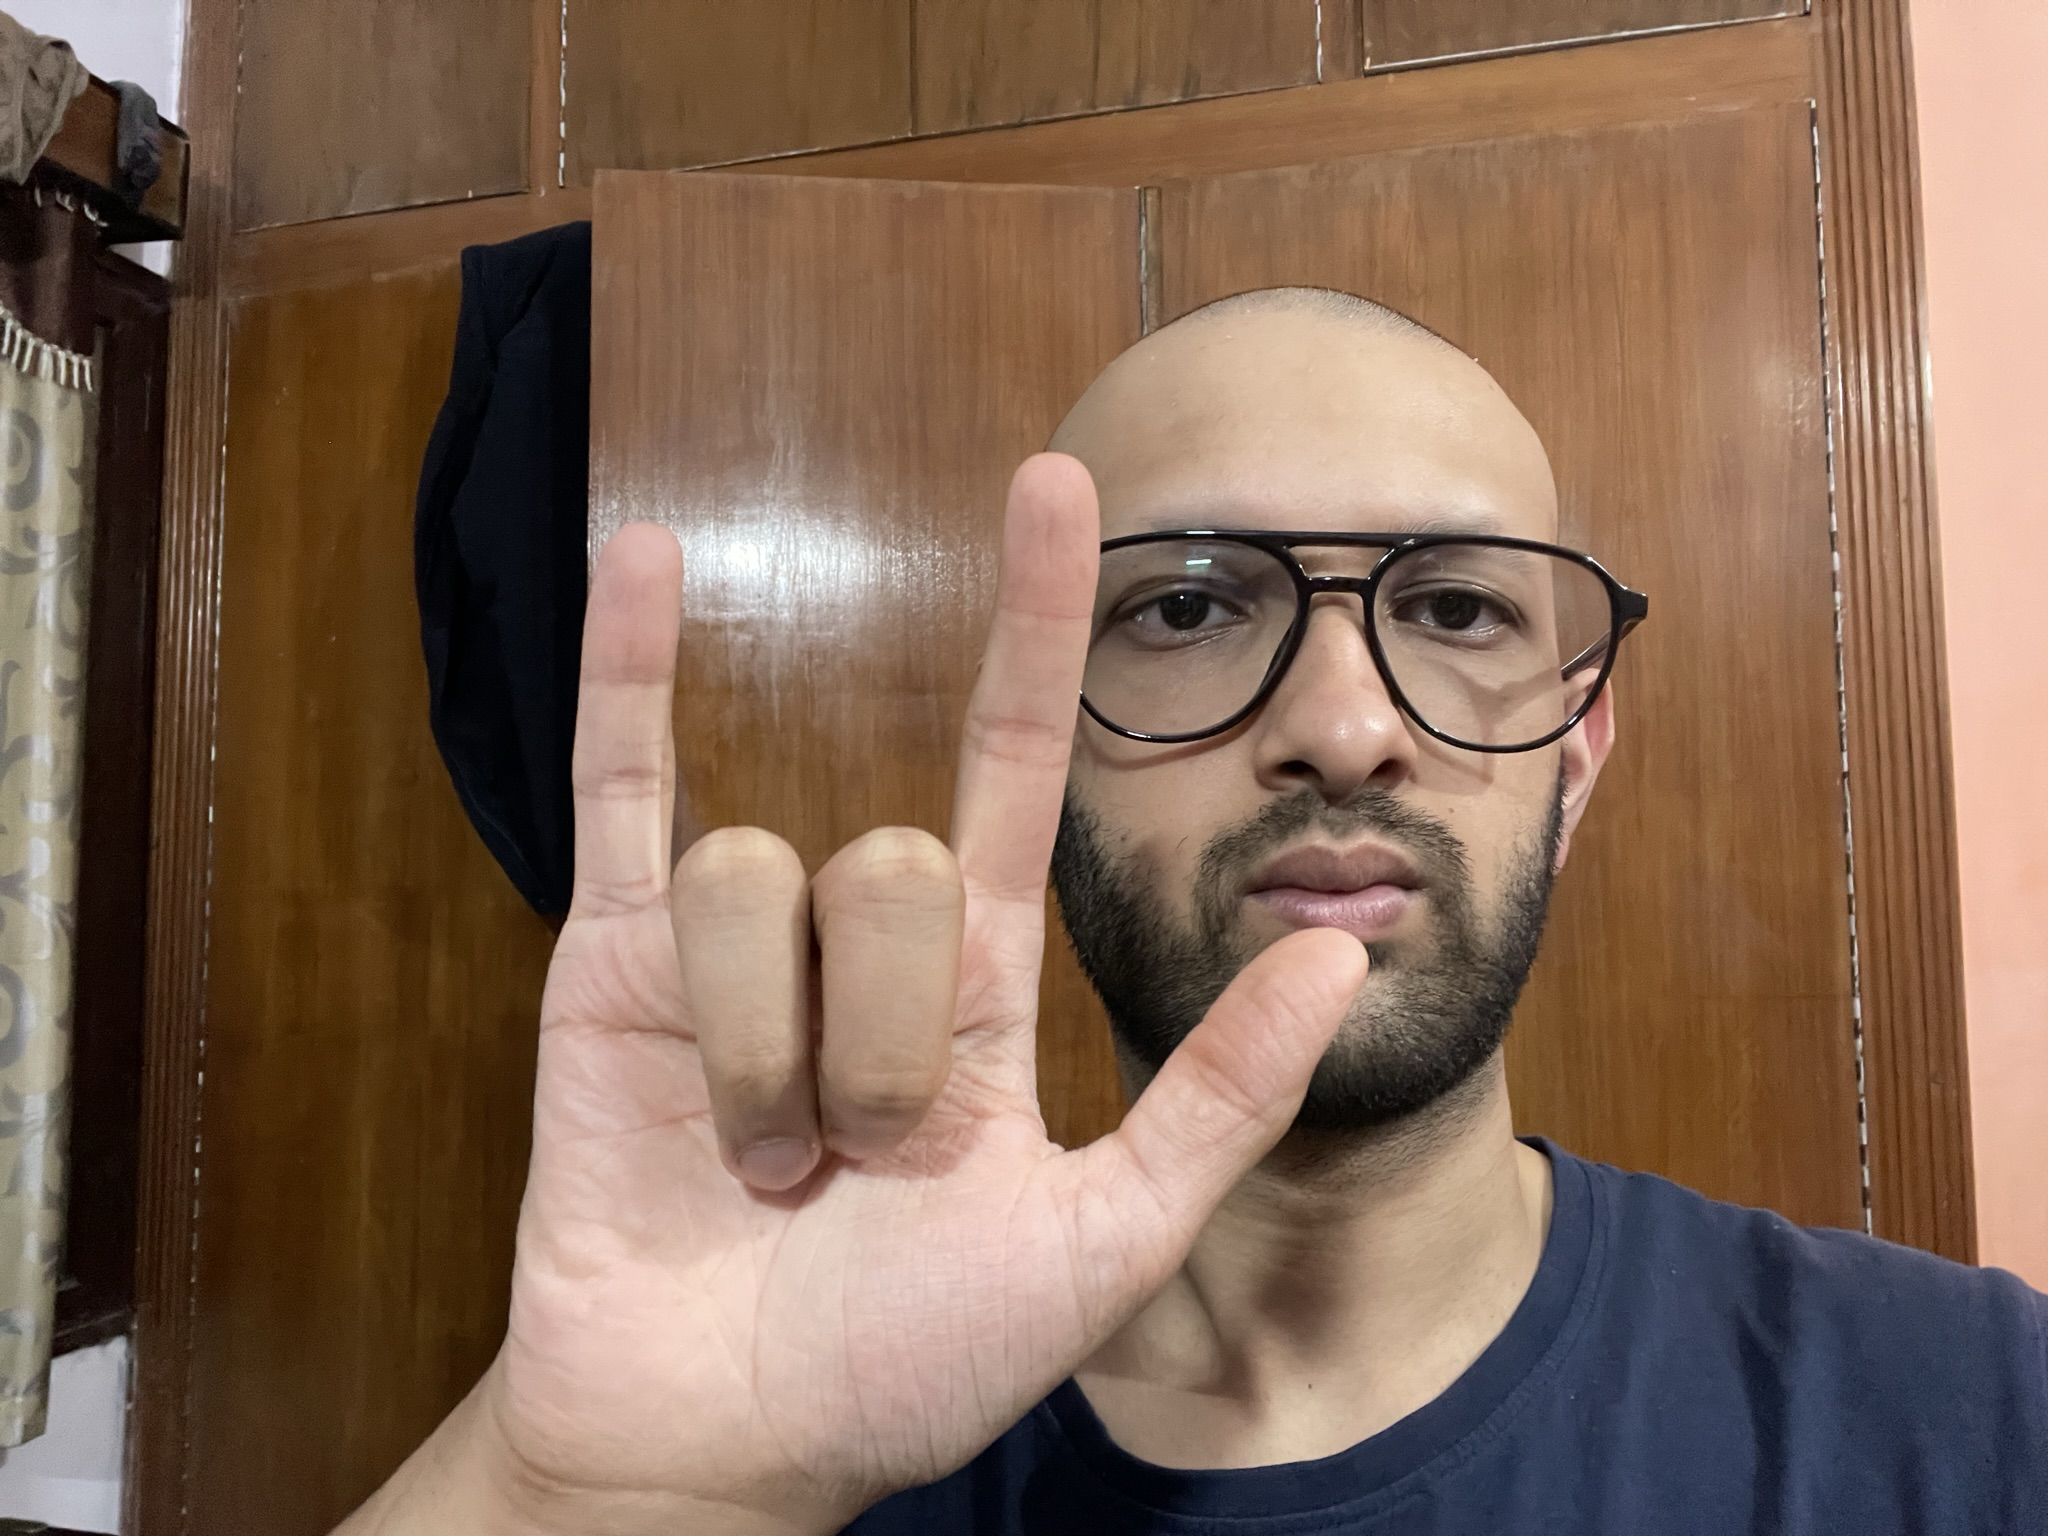I Love You: (497, 442, 1374, 1480)
